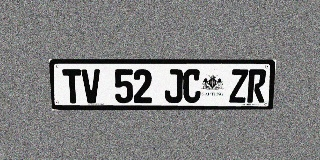2: (133, 69, 152, 103)
5: (114, 69, 133, 103)
C: (183, 69, 201, 103)
J: (165, 69, 183, 103)
R: (247, 69, 267, 103)
T: (62, 69, 82, 103)
V: (81, 69, 101, 103)
Z: (229, 69, 248, 103)
